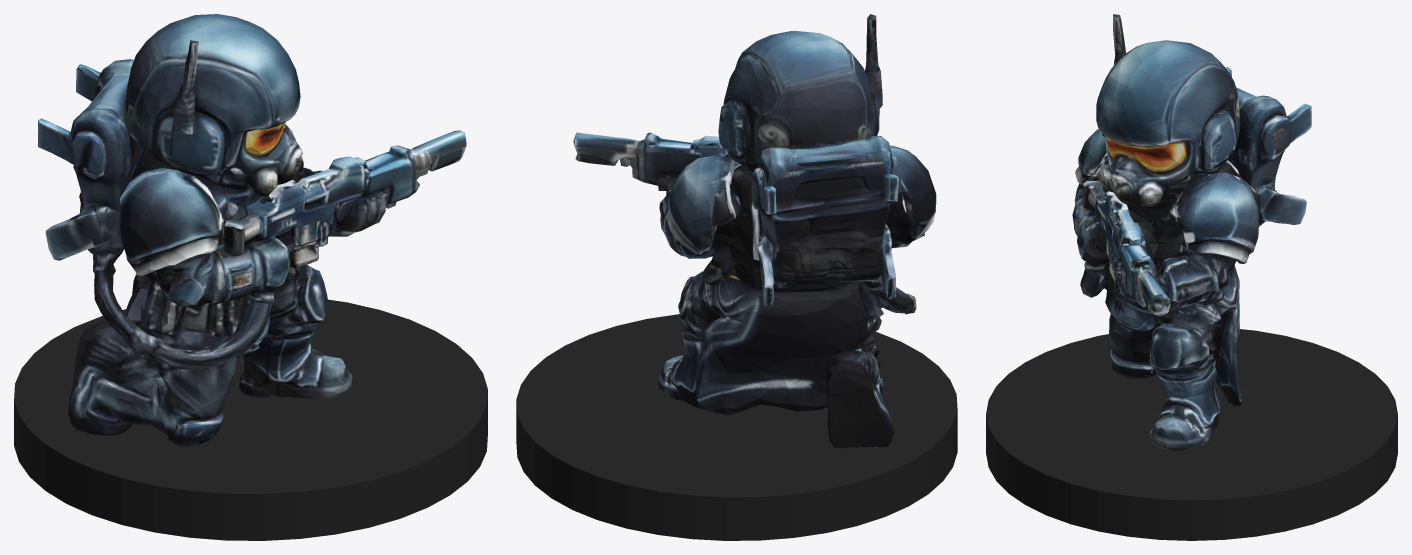
The model's file is ta-trooper-c.glb.
The picture shows the model from 3 angles, left to right: view 1: azimuth 30°, elevation 25°; view 2: azimuth 150°, elevation 25°; view 3: azimuth 270°, elevation 25°; orthographic projection. The views are drawn at different scales.
Visible parts, largest first — view 1: figure, base; view 2: figure, base; view 3: base, figure.
Boxes of the visible parts, x1,y1,x2,y2 form: figure: (38, 14, 466, 446); base: (14, 299, 487, 540); figure: (573, 14, 936, 448); base: (516, 314, 957, 540); base: (986, 329, 1397, 540); figure: (1072, 14, 1311, 450).
Bounding box in the file's own units: 1.1 × 1.17 × 1.1.
2 materials, 1 textured.
